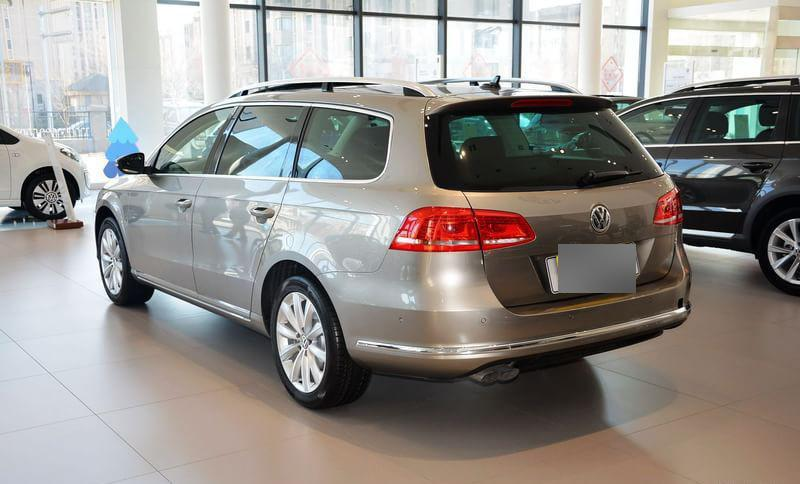Wagon: (92, 74, 696, 410)
